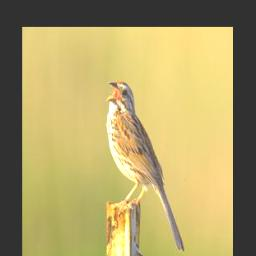Sparrow: (106, 79, 186, 251)
